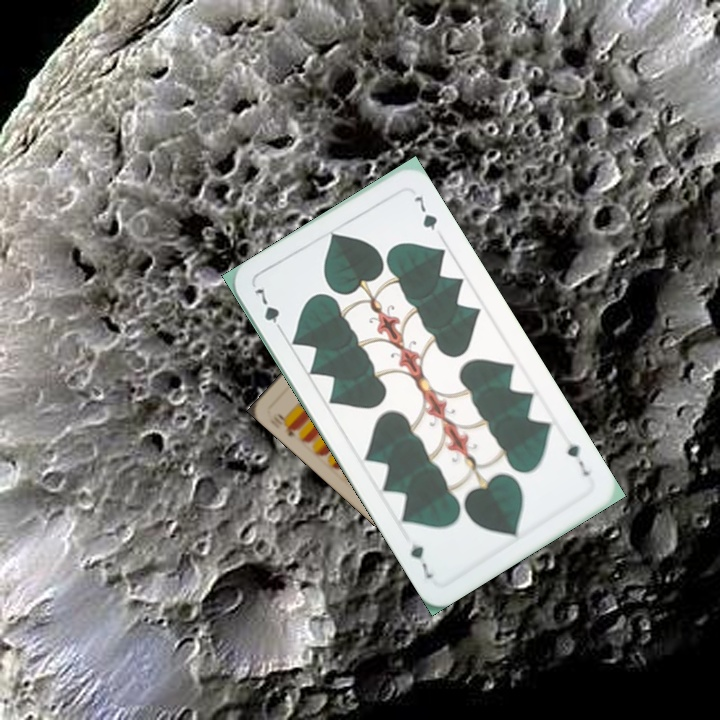E10: (273, 409, 301, 439)
G7: (250, 284, 287, 337), (563, 439, 593, 479)
